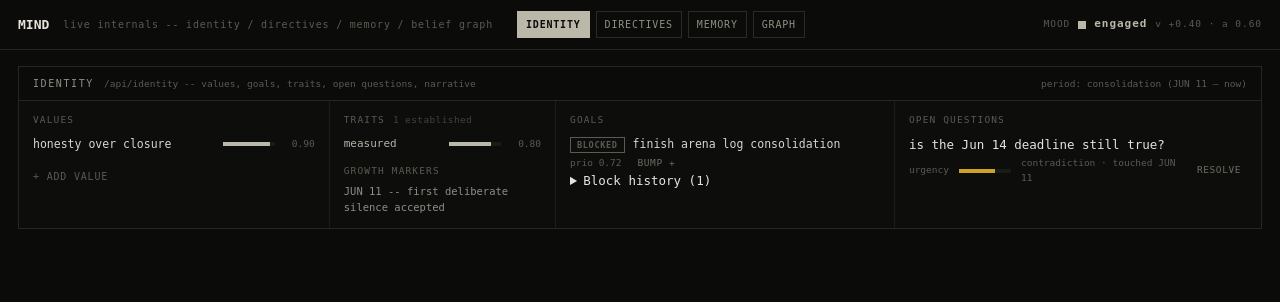
Test: Mind page › renders legacy blocks without inventing an entity, attempt or start time
What coordinates should you click on to do the following:
click the heading "Block history (1)"
I would click on:
 (647, 180)
Its box is [583,172,711,188].
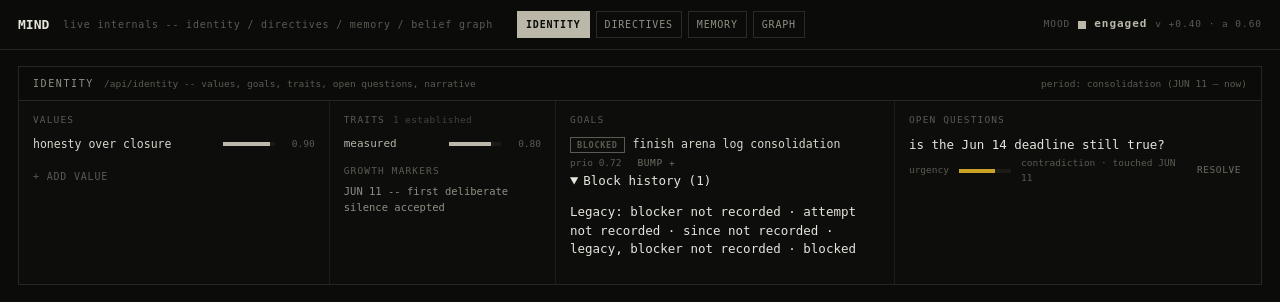
Check: the text "Legacy: blocker not recorded" shows "attempt not recorded · since not recorded", box [570,204,856,256]
